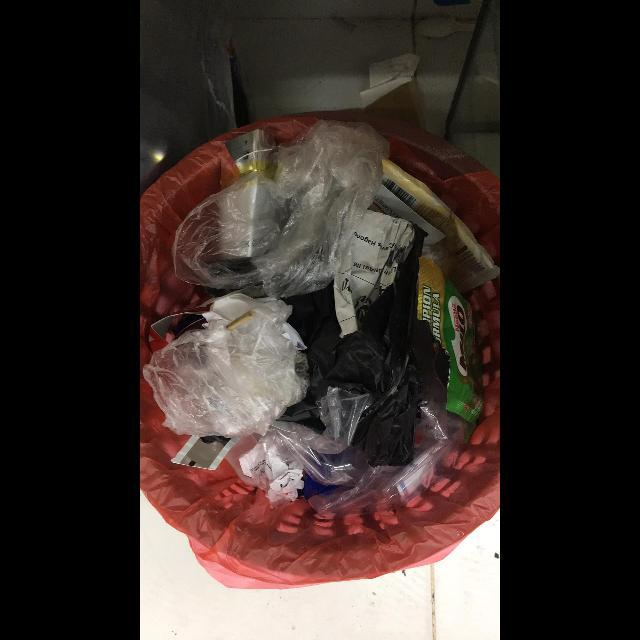plastic: (172, 120, 390, 300), (226, 387, 451, 520), (143, 293, 310, 439)
wrapper: (417, 258, 484, 424)
